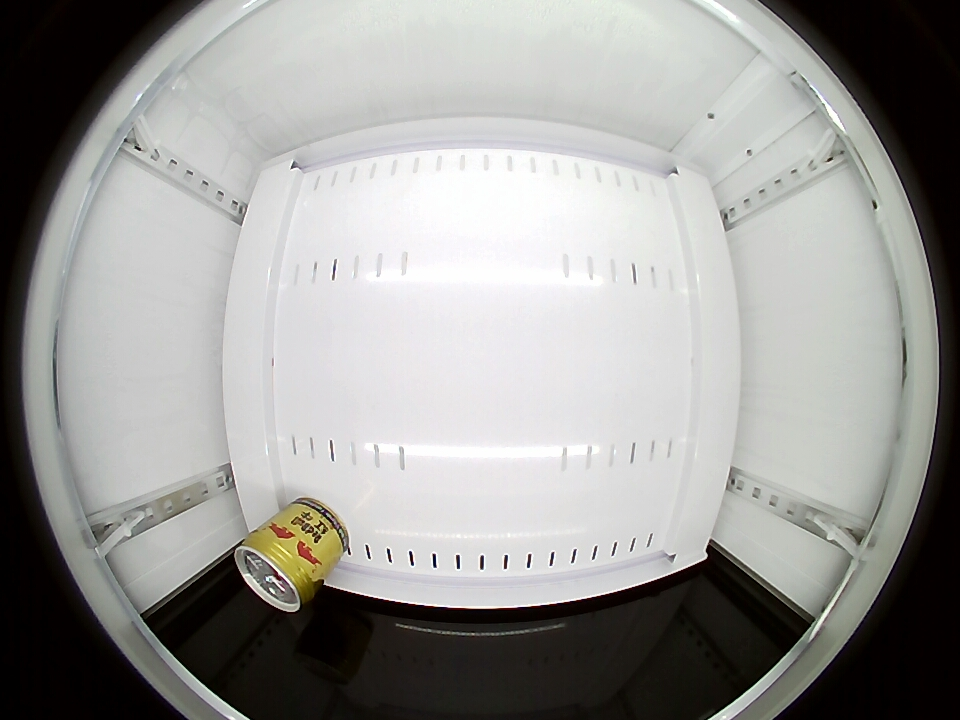hongniu2: (235, 528, 321, 612)
